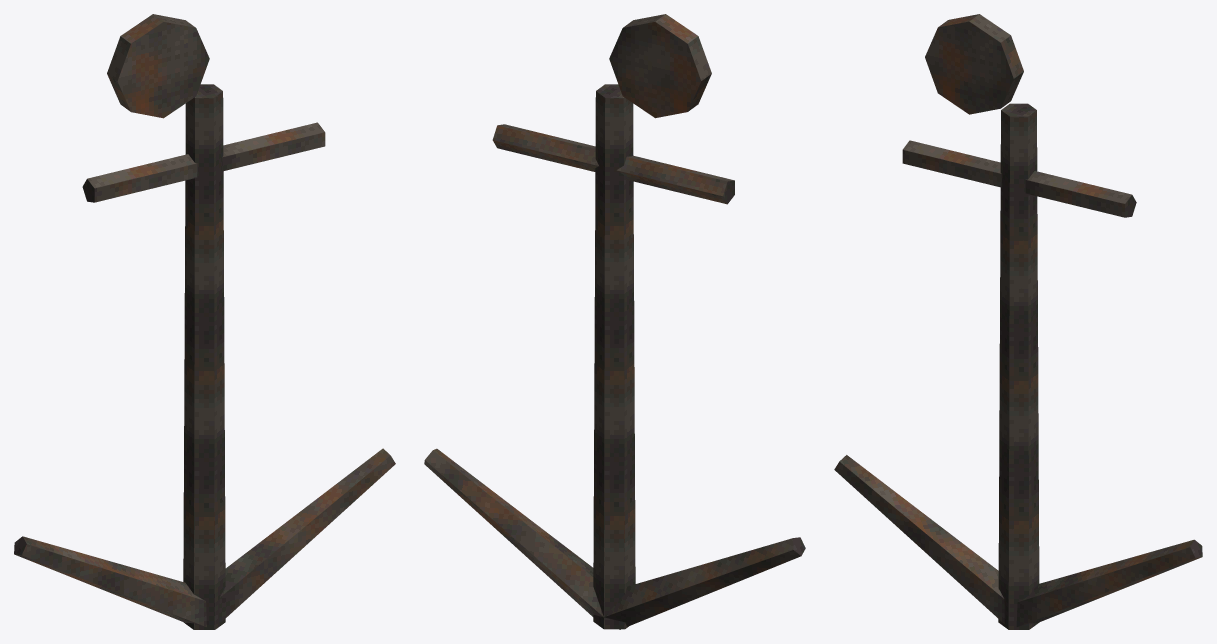
The model's file is ancla.obj.
3 renders of one model, left to right at view 1: azimuth 30°, elevation 25°; view 2: azimuth 150°, elevation 25°; view 3: azimuth 330°, elevation 25°, orthographic. The views are drawn at different scales.
Parts seen in each view (by area): view 1: ancla; view 2: ancla; view 3: ancla.
Part boxes in pixels (box(x1,y1,x2,y2)): ancla: box(14, 14, 395, 629); ancla: box(424, 14, 805, 629); ancla: box(834, 14, 1202, 629).
Size of the model in its own units: 1.64 by 2.57 by 0.16.
Materials: 1 (1 with a texture image).
